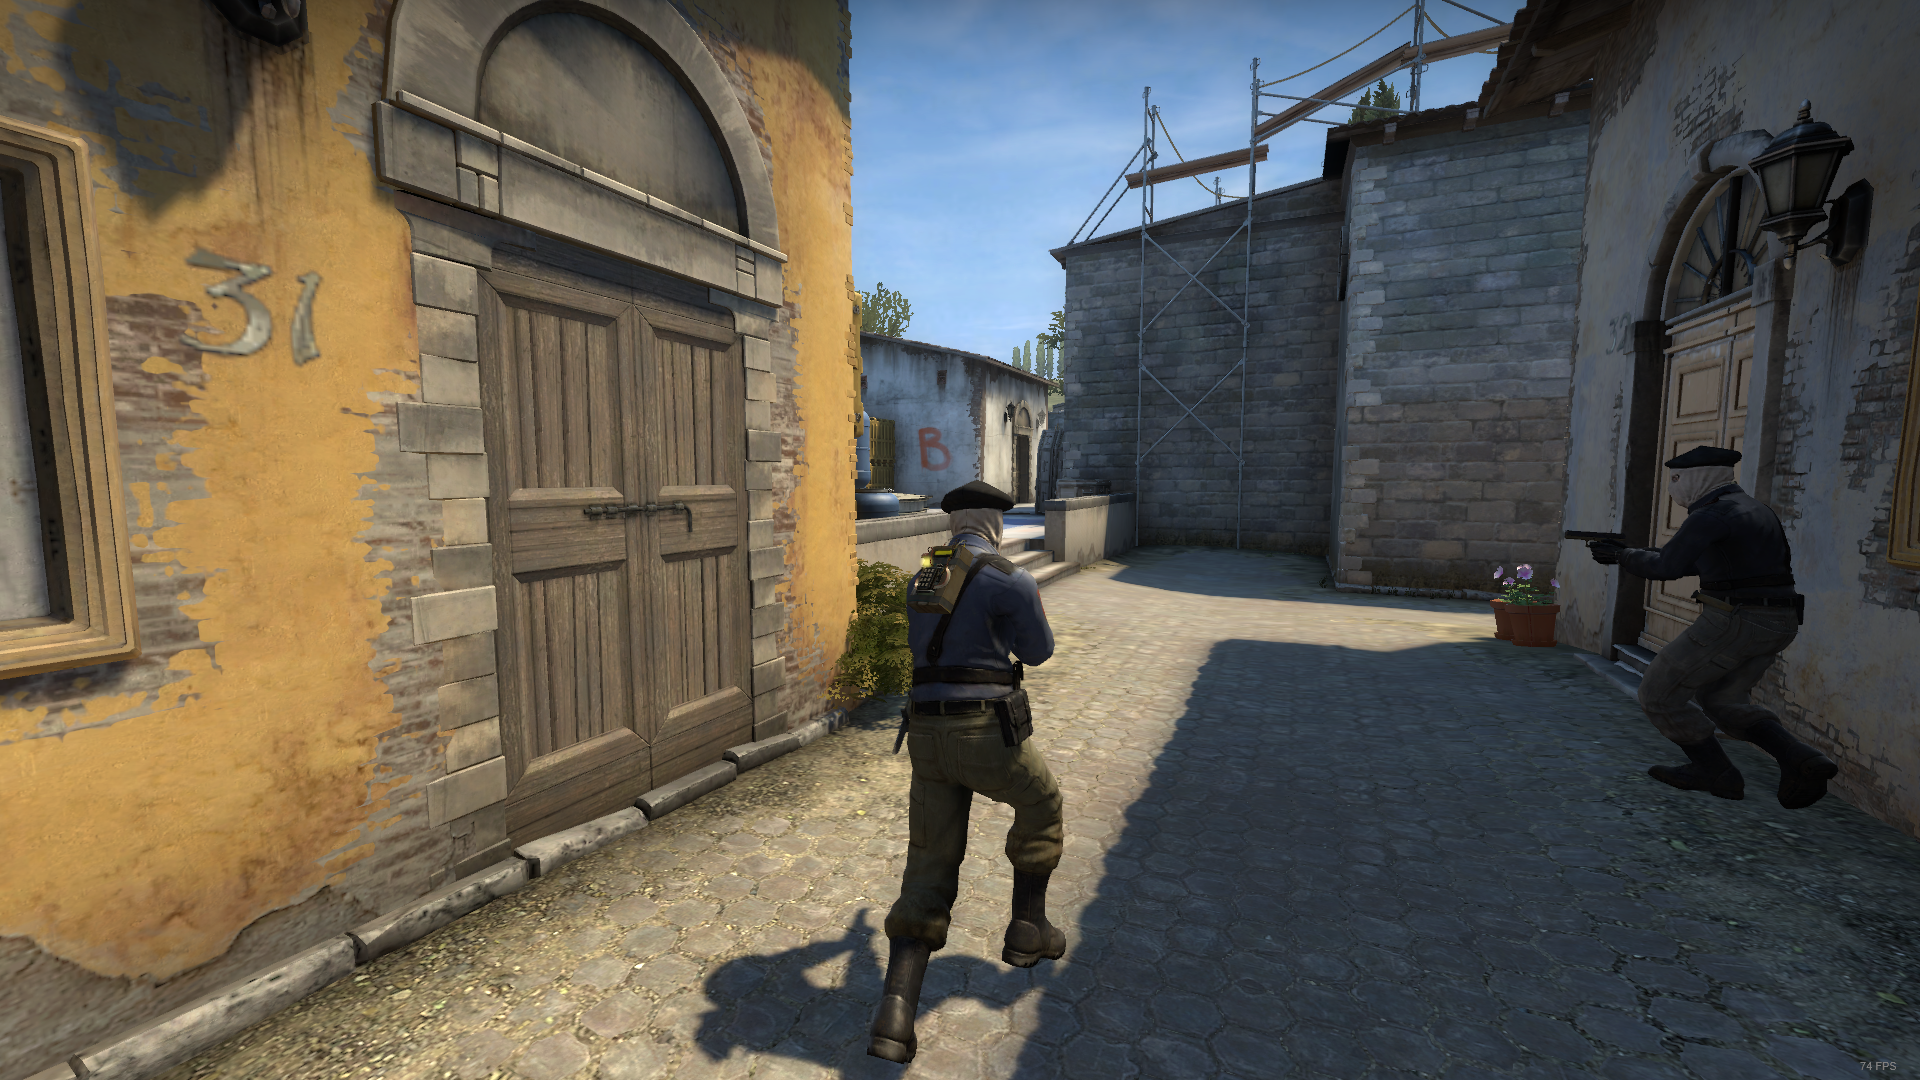t: (833, 467, 1113, 1080), (1575, 402, 1859, 862)
